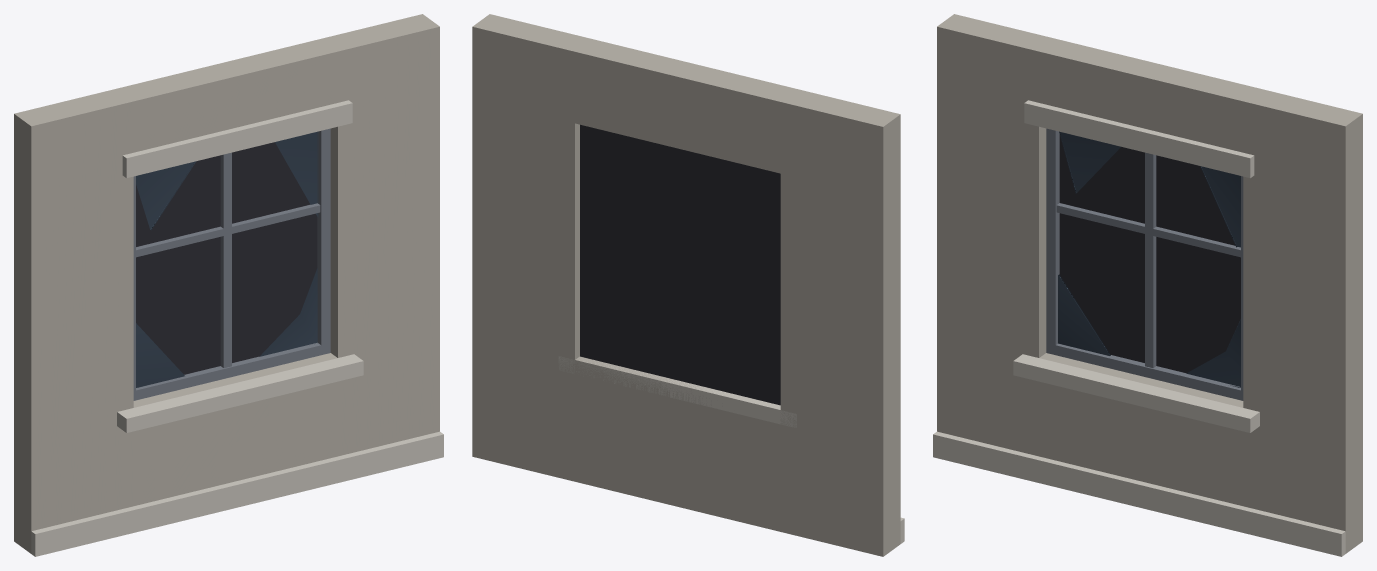
The model's file is wall_window_broken.glb.
3 views of the same model, side by side, from view 1: azimuth 30°, elevation 25°; view 2: azimuth 150°, elevation 25°; view 3: azimuth 330°, elevation 25° (orthographic).
Visible parts, largest first — view 1: wall_window_broken; view 2: wall_window_broken; view 3: wall_window_broken.
Part boxes in pixels (x1=…): wall_window_broken: x1=14, y1=14, x2=443, y2=556; wall_window_broken: x1=472, y1=14, x2=904, y2=556; wall_window_broken: x1=933, y1=14, x2=1362, y2=556.
Bounding box in the file's own units: 3 × 3 × 0.34.
